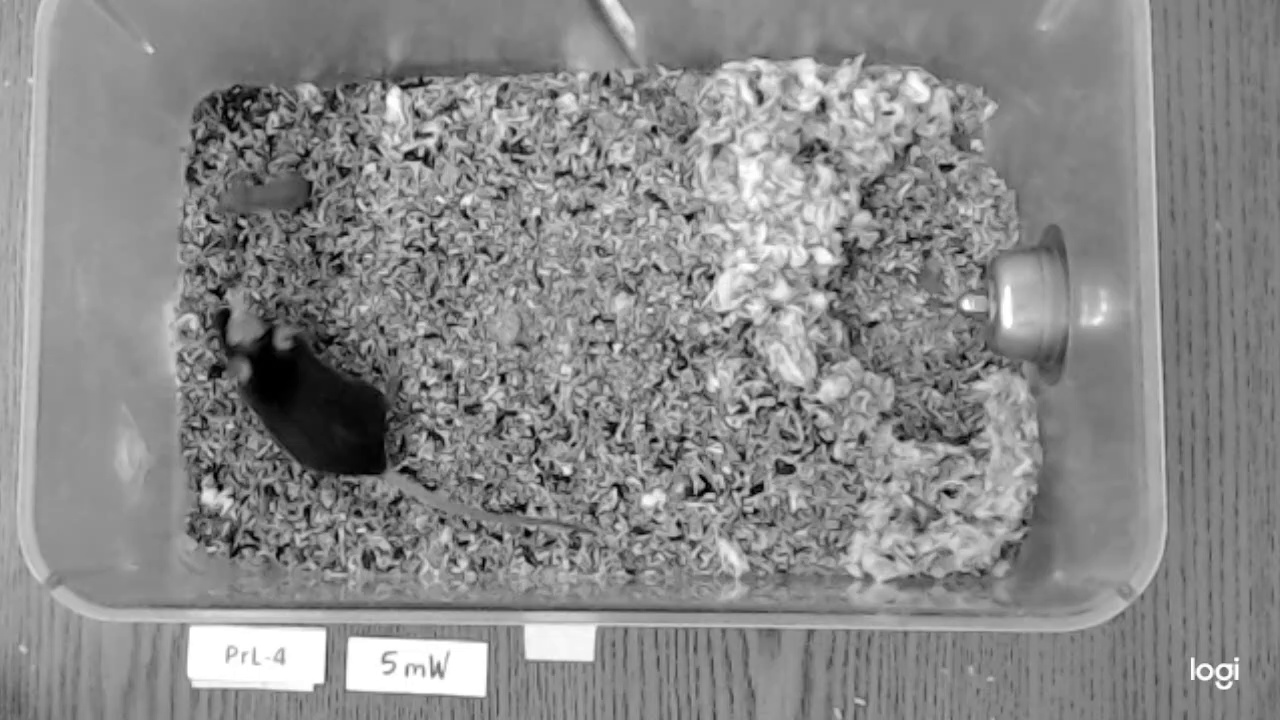child-mice: (216, 167, 309, 222)
